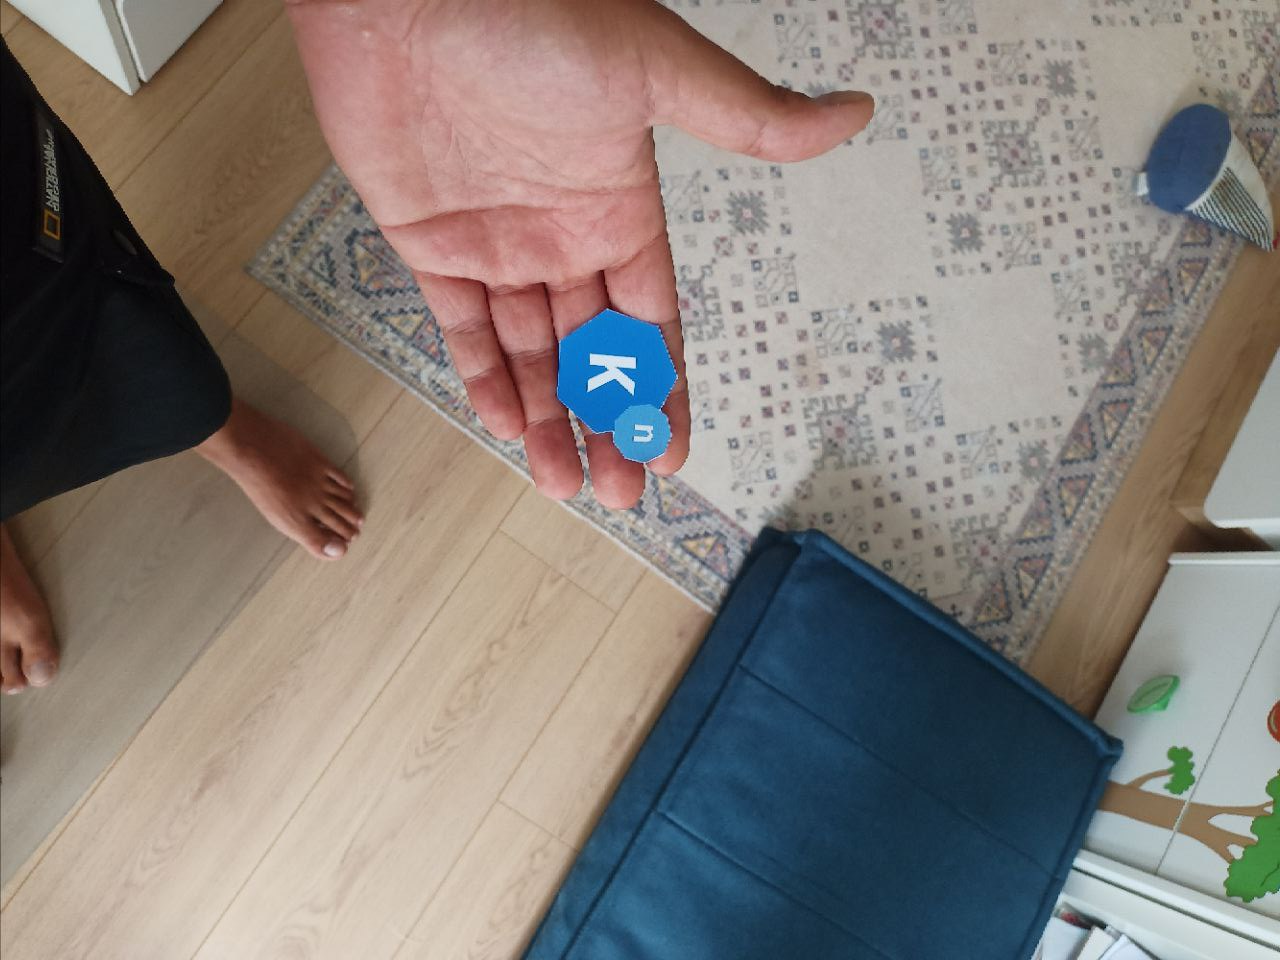knative: (558, 305, 682, 464)
